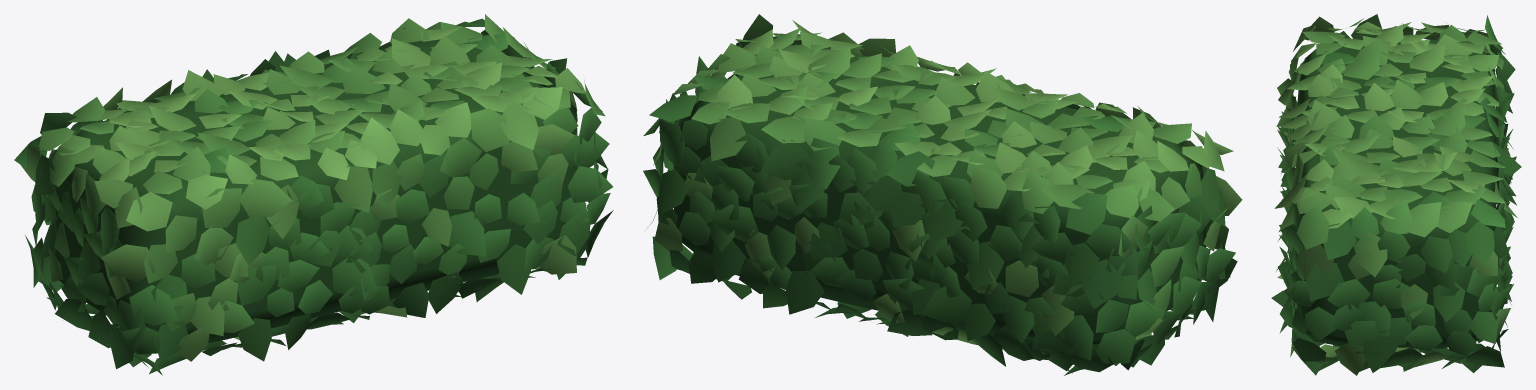
File: furn_dp_hedge_long.glb
The picture shows the model from 3 angles, left to right: view 1: azimuth 30°, elevation 25°; view 2: azimuth 150°, elevation 25°; view 3: azimuth 270°, elevation 25°; orthographic projection. The views are drawn at different scales.
Visible parts, largest first — view 1: furn_dp_hedge_long_main; view 2: furn_dp_hedge_long_main; view 3: furn_dp_hedge_long_main.
Boxes of the visible parts, <box> form: furn_dp_hedge_long_main: <box>14,14,613,375</box>; furn_dp_hedge_long_main: <box>643,14,1242,375</box>; furn_dp_hedge_long_main: <box>1271,14,1521,375</box>.
Bounding box in the file's own units: 1.94 × 0.7538 × 0.9295.
